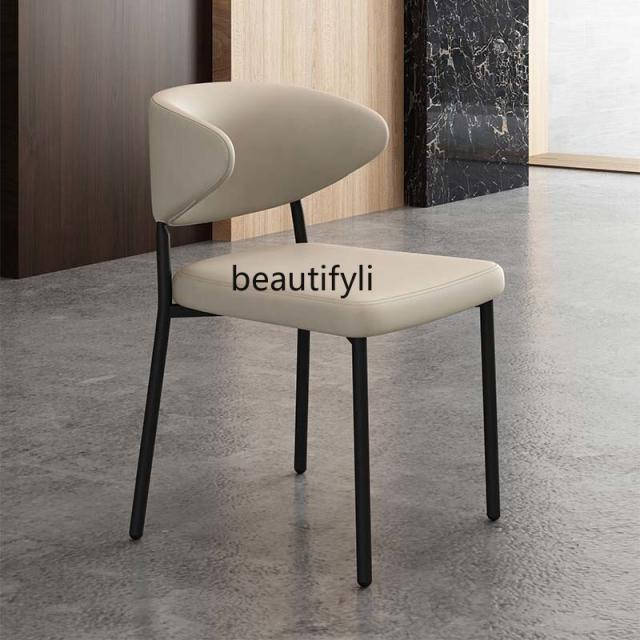chair: (122, 72, 514, 587), (118, 69, 514, 363)
